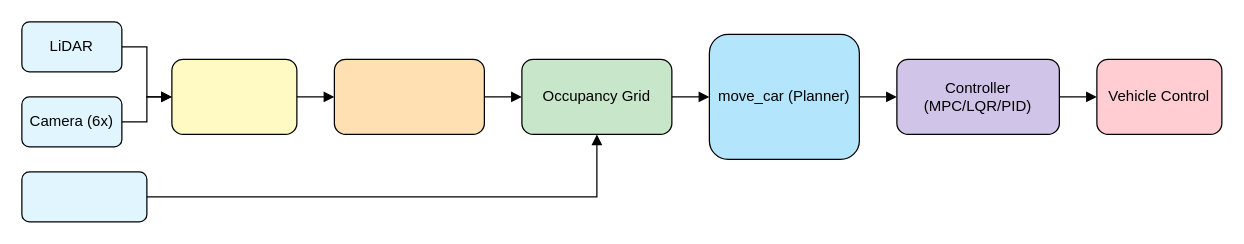
This 1244x244 diagram has some shape labels left out. Each missing label, with the centre of its shape:
"3D BBox/Object List" belongs at point (408, 96).
"BEVFusion" belongs at point (234, 96).
"Odometry (UTM)" belongs at point (84, 196).
